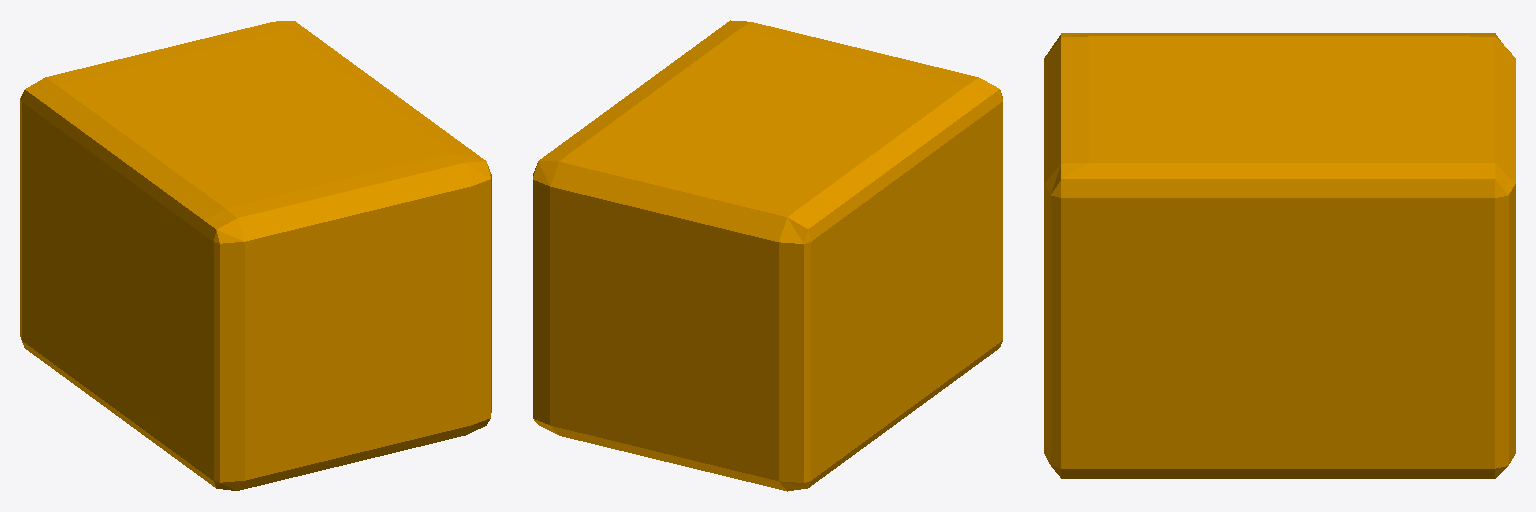
robot.urdf — cylinder_box_84:
<?xml version="1.0" encoding="utf-8"?>  <robot name="cylinder_box_84">   <link name="cylinder_box_84">     <visual>       <geometry>         <mesh filename="../meshes/box/box_84.stl" scale="1 1 1"/>       </geometry>     </visual>     <collision>       <geometry>         <mesh filename="../meshes/box/box_84.stl" scale="1 1 1"/>       </geometry>     </collision>     <inertial>        <origin         xyz="0 0 0"         rpy="0 0 0" />       <mass value="0.36195140803367093"/>       <origin rpy="0 0 0" xyz="0 0 0"/>       <inertia ixx="0.0003417412917301658" ixy="1.6769877853580674e-09" ixz="9.853201262373182e-09" iyy="0.0002511004558059824" iyz="2.609172015424491e-08" izz="0.00035641889356091385"/>     </inertial>   </link>  </robot>

--- Render facts (derived) ---
Views: 3 orthographic renders of the robot side by side, from view 1: azimuth 30°, elevation 25°; view 2: azimuth 150°, elevation 25°; view 3: azimuth 270°, elevation 25°.
Model cylinder_box_84 with 1 links and 0 joints (none), rooted at cylinder_box_84, posed all joints at 0.
Visible links, largest first — view 1: cylinder_box_84; view 2: cylinder_box_84; view 3: cylinder_box_84.
Boxes of the visible links, x1,y1,x2,y2 form: cylinder_box_84: [20, 21, 491, 490]; cylinder_box_84: [533, 20, 1002, 491]; cylinder_box_84: [1044, 33, 1515, 478].
Size in the robot's own frame: 0.0669 by 0.0868 by 0.0632 metres.
Meshes: 1 distinct files referenced, 1 mesh visuals loaded (1 binary STL).